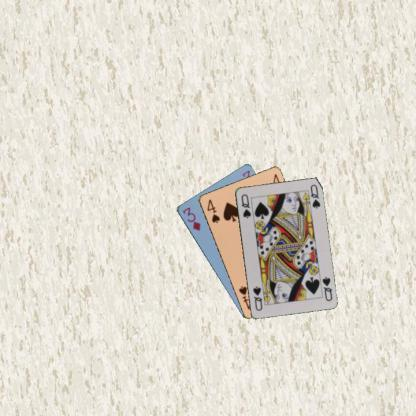3d: (180, 204, 202, 232)
4s: (204, 197, 221, 224)
Qs: (320, 274, 334, 302), (239, 191, 252, 219)
